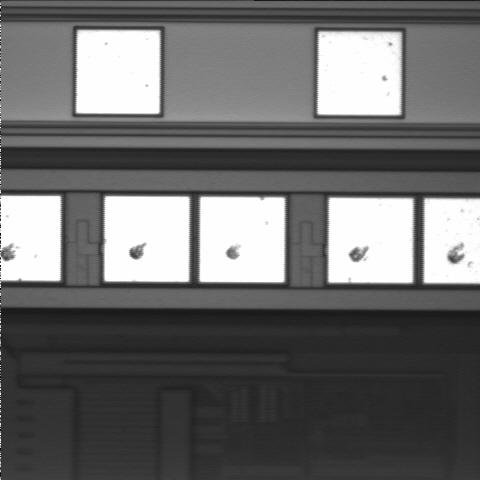pad: (200, 197, 285, 282), (105, 196, 189, 282), (329, 198, 413, 283), (76, 30, 160, 114), (318, 32, 401, 115)
